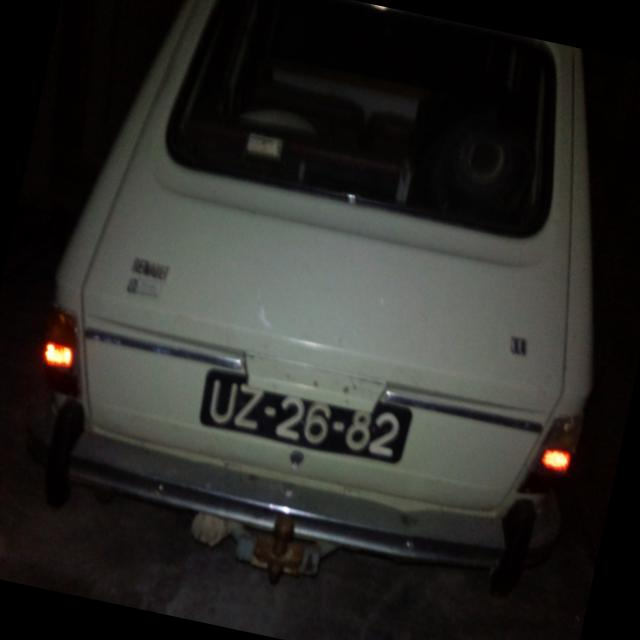portuguese-license-plates: (198, 371, 412, 460)
